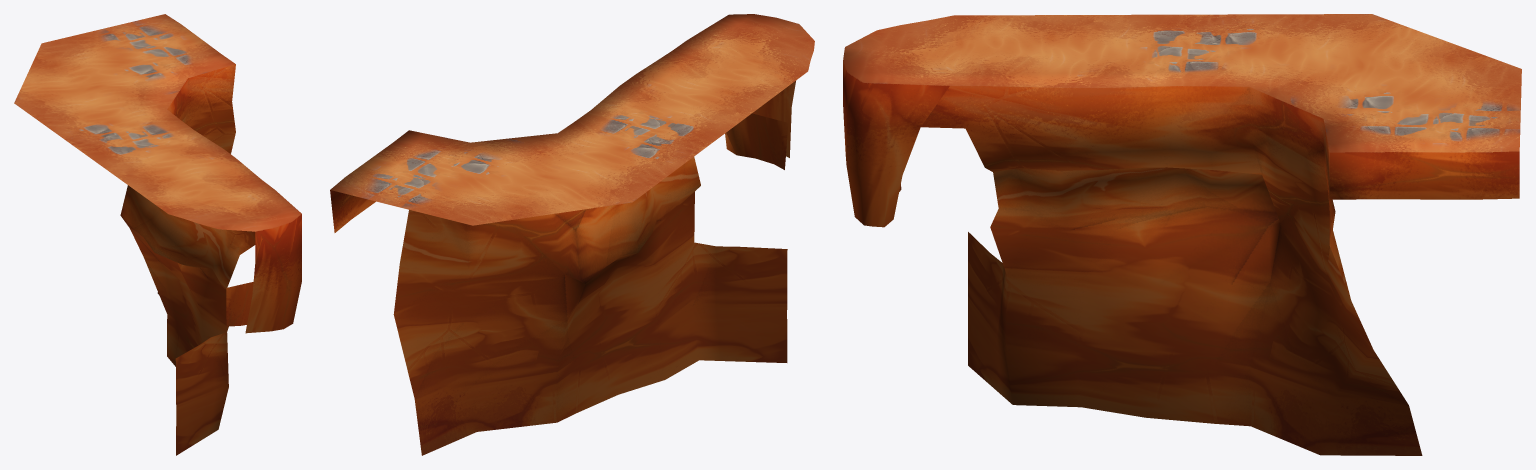
The model's file is path_04.fbx.
3 views of the same model, side by side, from view 1: azimuth 30°, elevation 25°; view 2: azimuth 150°, elevation 25°; view 3: azimuth 270°, elevation 25° (orthographic). The views are drawn at different scales.
Parts seen in each view (by area): view 1: path_04; view 2: path_04; view 3: path_04.
Boxes of the visible parts, x1,y1,x2,y2 form: path_04: (14, 14, 301, 455); path_04: (330, 14, 814, 455); path_04: (843, 14, 1521, 455).
Bounding box in the file's own units: 34.23 × 39.38 × 70.93.
Materials: 1 (1 with a texture image).
